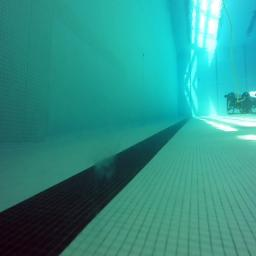back: (224, 90, 256, 116)
